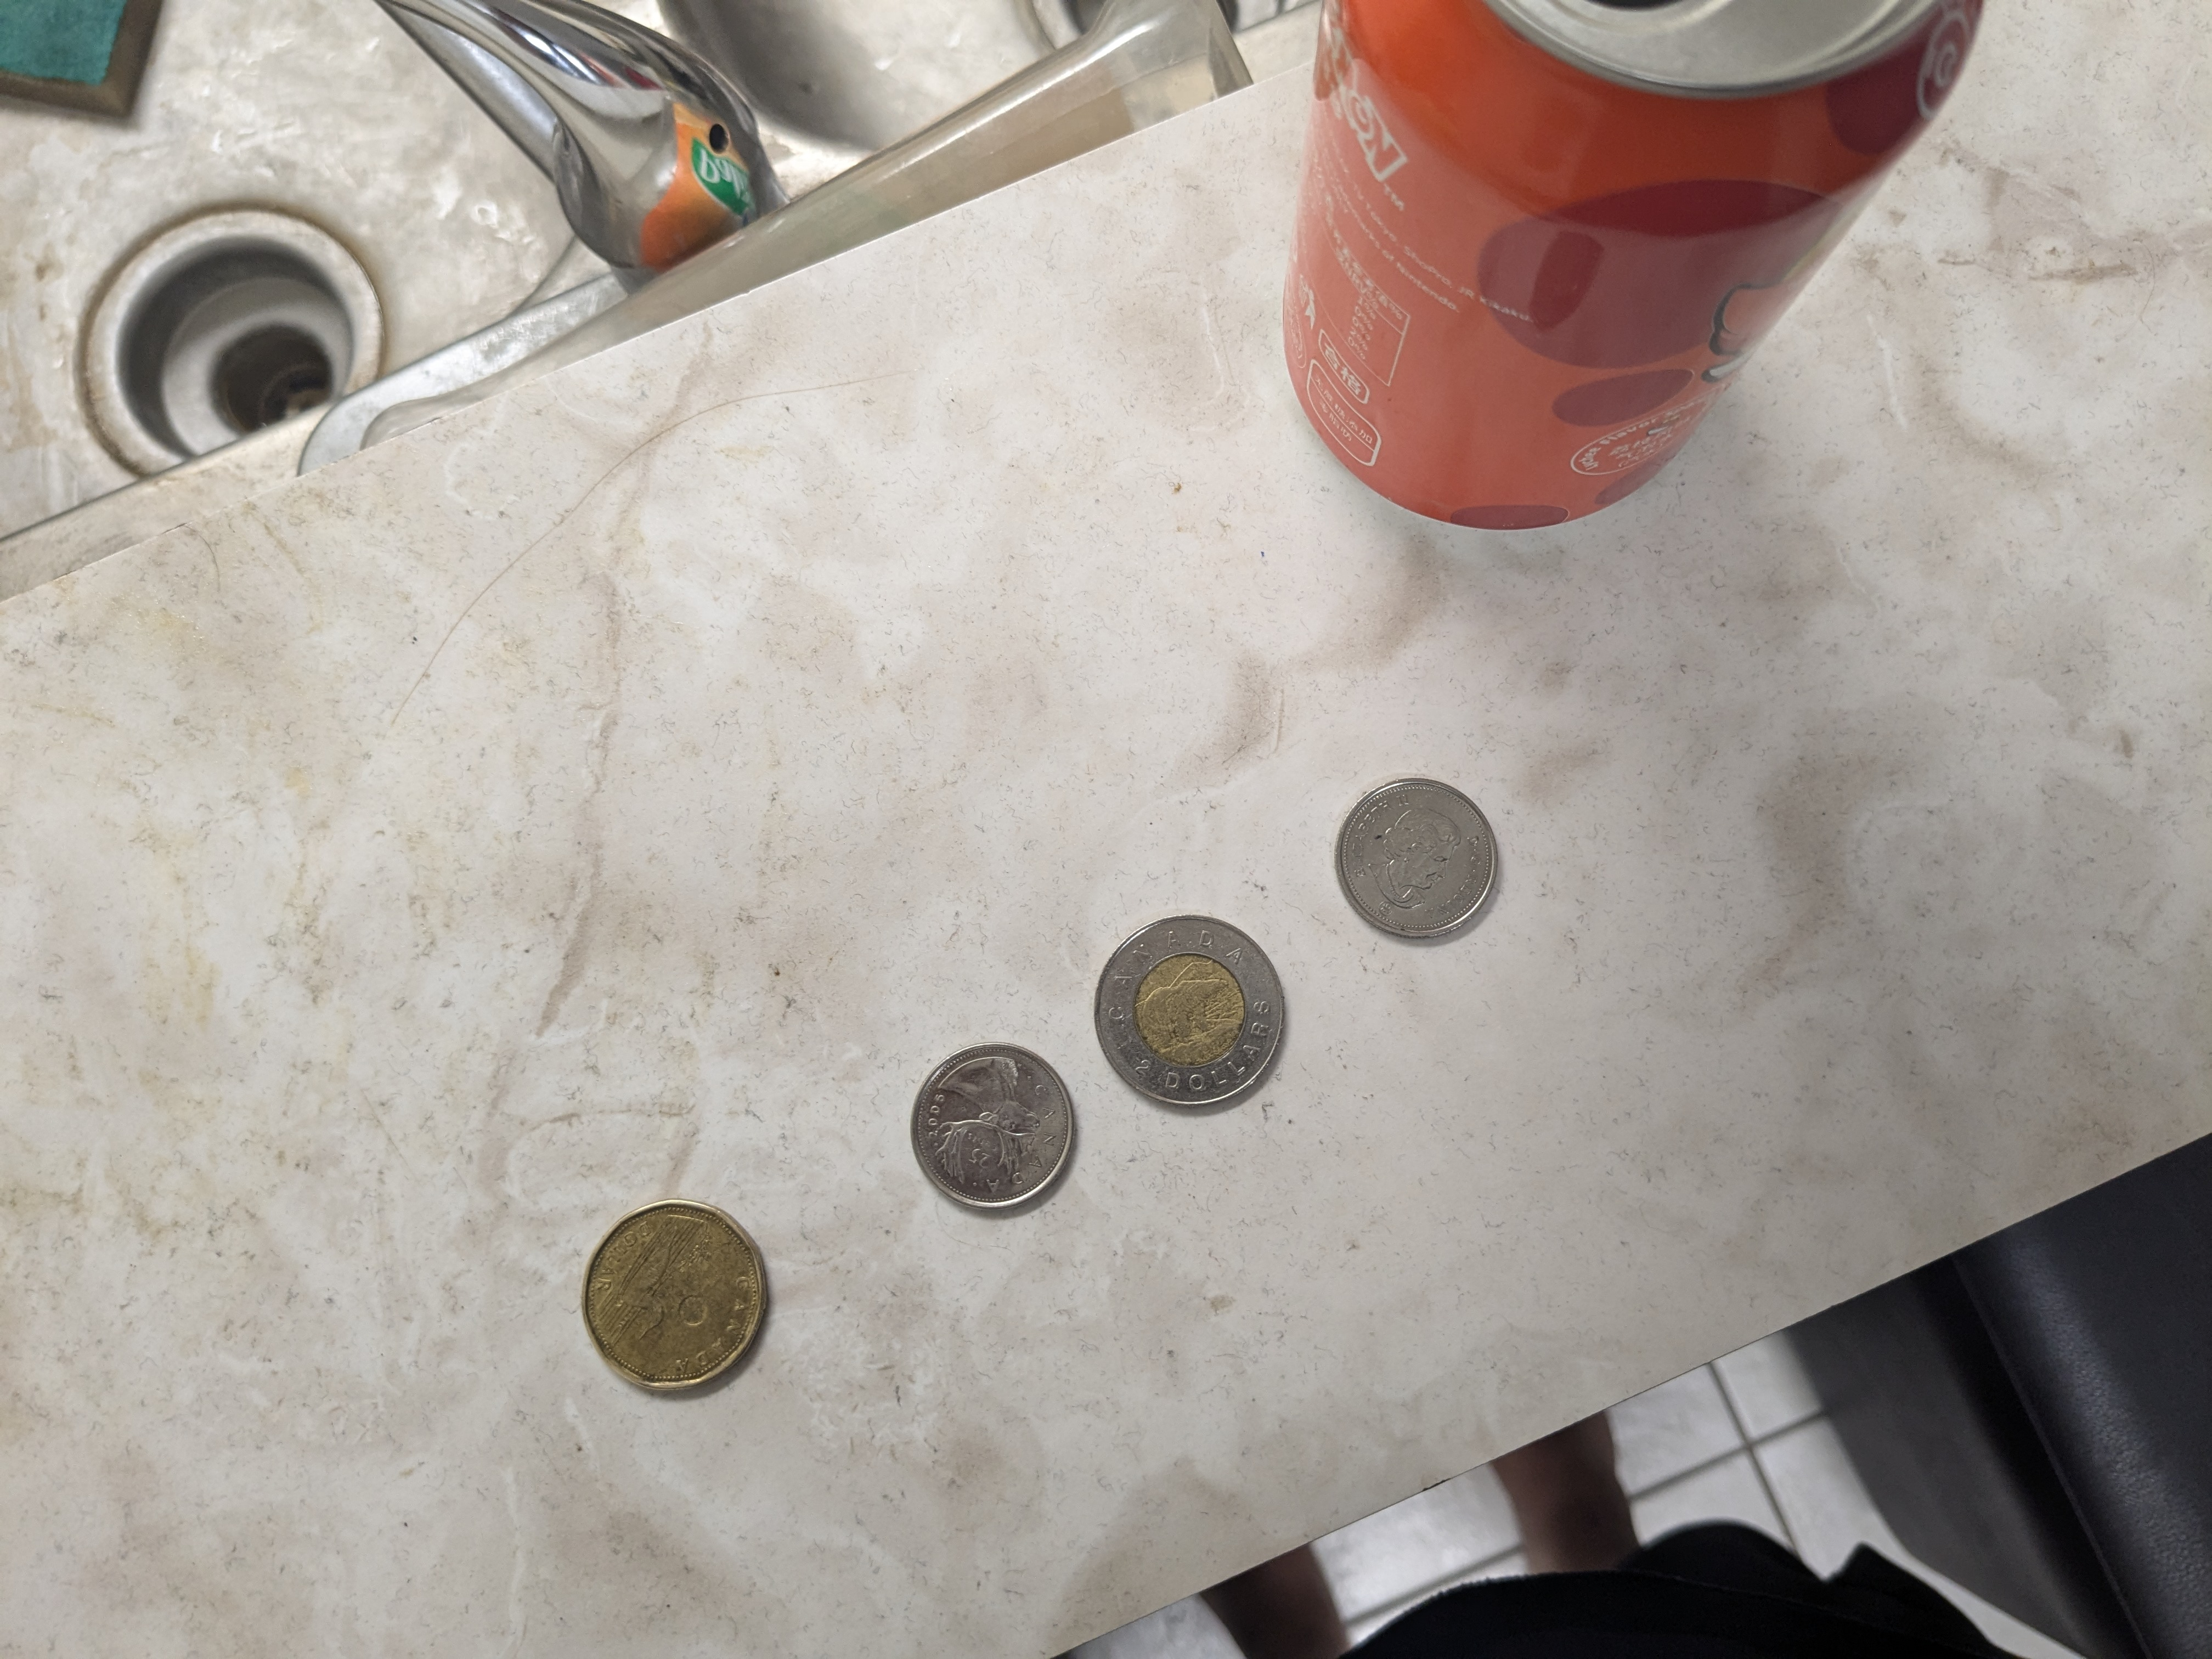loonie: (587, 1195, 770, 1398)
quarter: (911, 1047, 1078, 1216), (1338, 777, 1496, 941)
toonie: (1082, 913, 1296, 1121)
